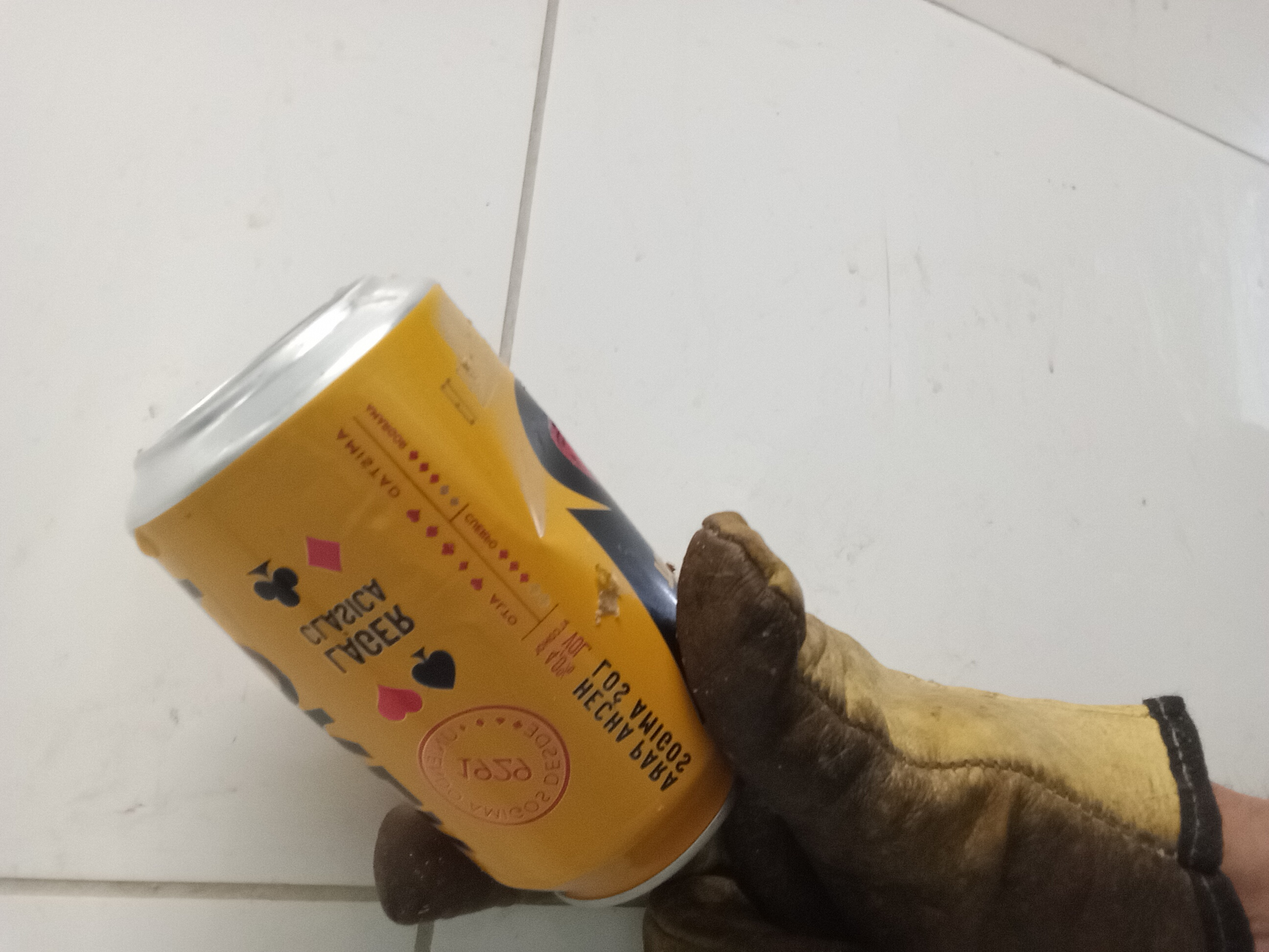Metal: (127, 274, 755, 911)
